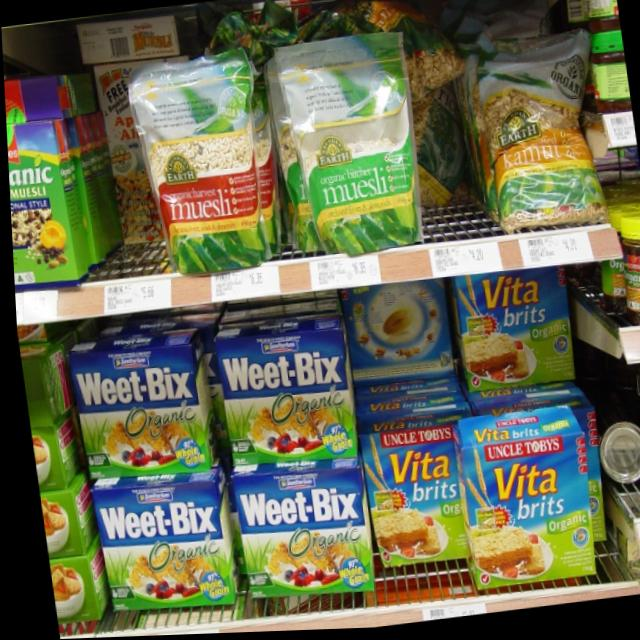q7: (55, 320, 217, 491), (207, 313, 360, 481), (225, 463, 366, 617), (87, 484, 240, 623)
